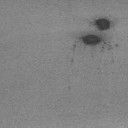iron sheet ash: (81, 34, 101, 46), (94, 18, 111, 30)
